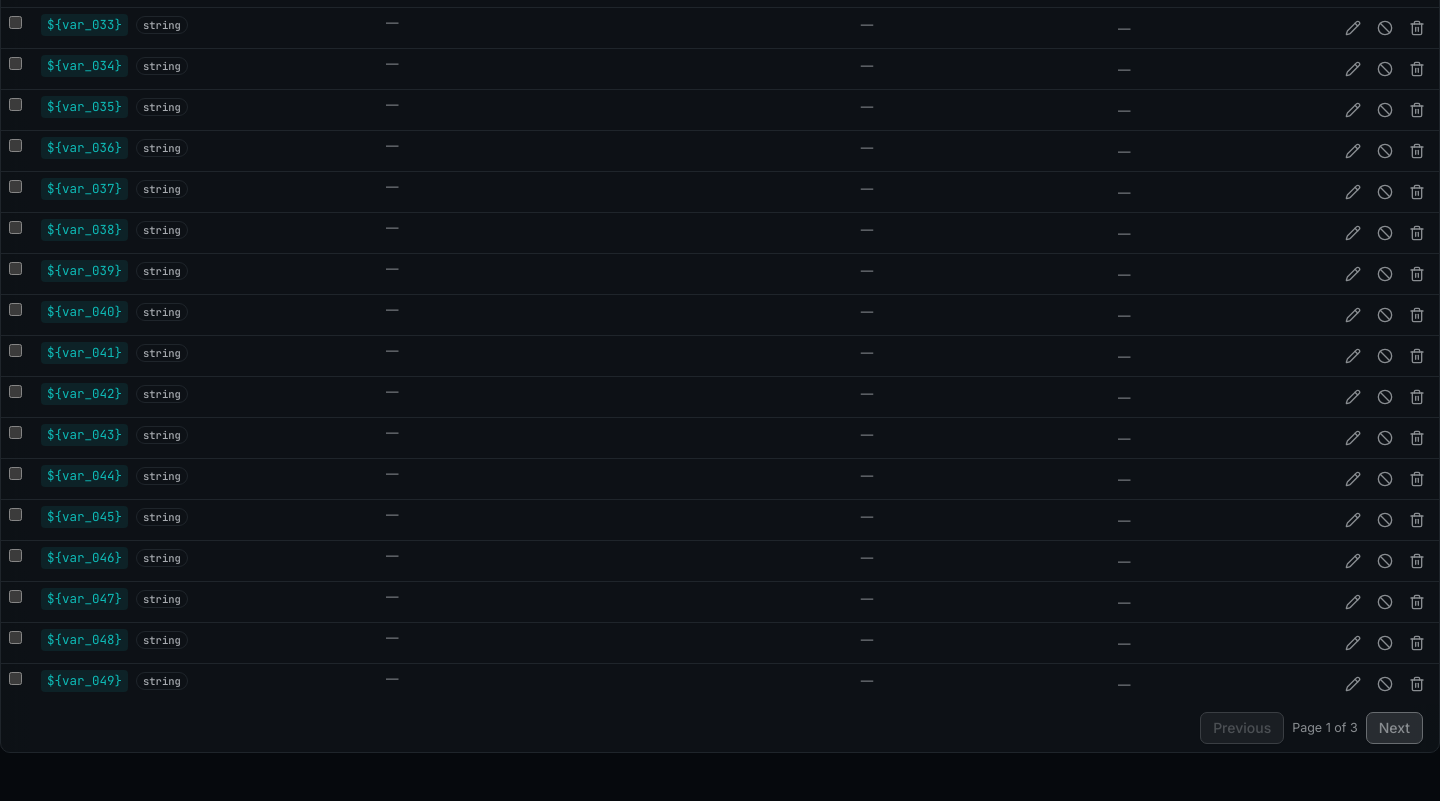
VariablesTab › renders one page of rows for a large project instead of all of them
(page scrolled)
Expected: the text "Page 1 of 3" is shown, x1=1292 y1=719 x2=1358 y2=737
Click the button with aria-label "Next page" at coordinates (1394, 728), box x1=1366 y1=712 x2=1423 y2=744
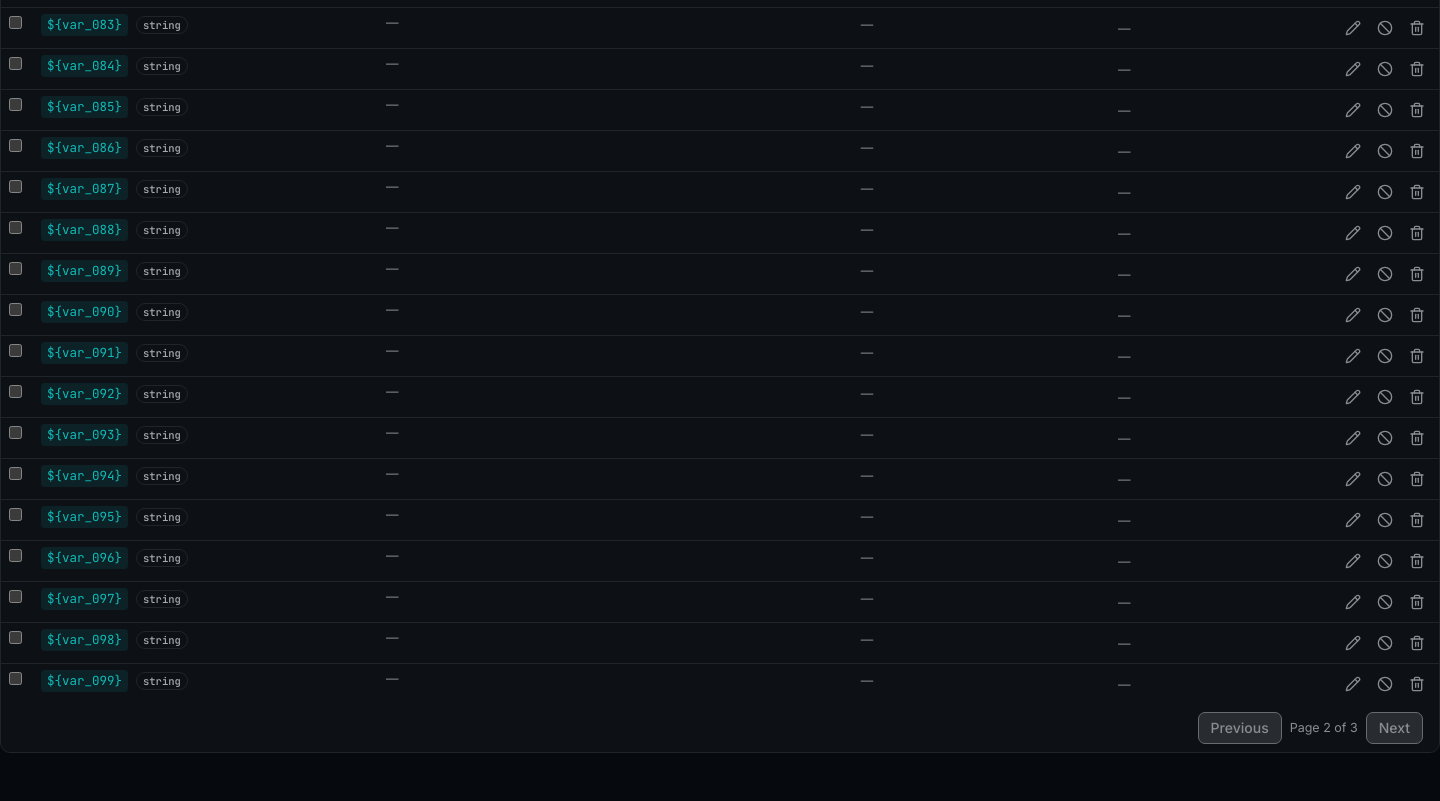
Expected: the text "Page 2 of 3" is shown, x1=1290 y1=719 x2=1358 y2=737
